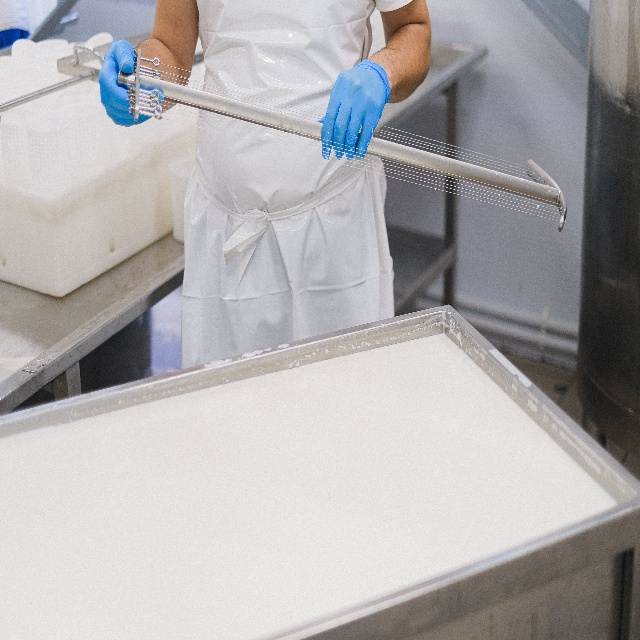Guantes: (319, 57, 391, 158), (98, 38, 164, 128)
